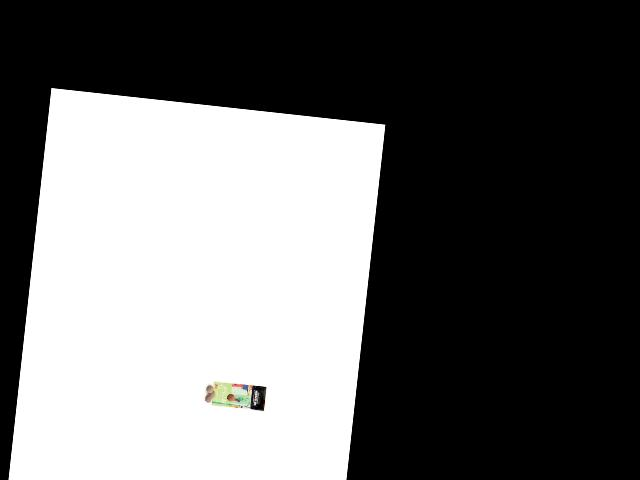chocolate: (209, 377, 269, 417)
